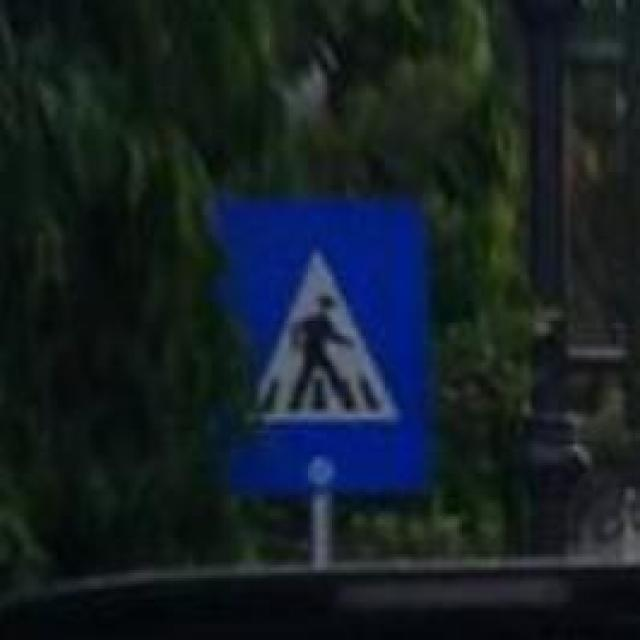traffic sign: (236, 204, 424, 494)
